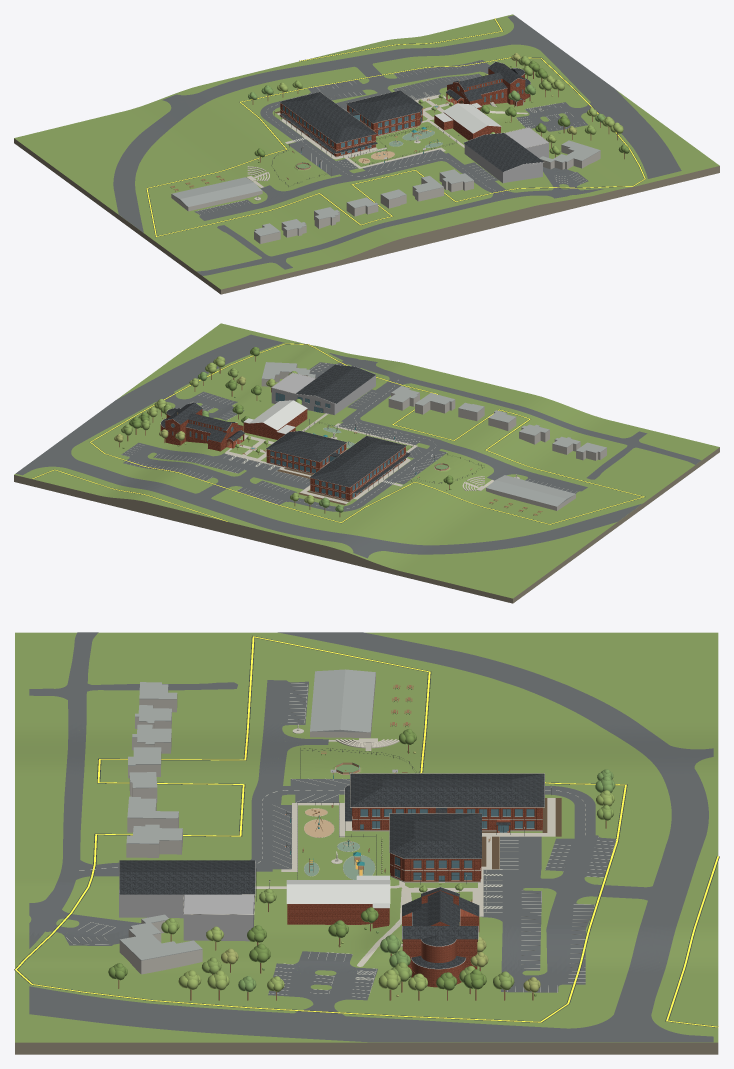
The model's file is OLR-New-Campus.glb.
3 renders of one model, top to bottom at view 1: azimuth 30°, elevation 25°; view 2: azimuth 150°, elevation 25°; view 3: azimuth 270°, elevation 25°, orthographic. The views are drawn at different scales.
Visible parts, largest first — view 1: Landform • upper campus and west slope, 07 • Paths parking and landscape structure / Warm gray aspha, 01 • Site and topography / Terrain cut edge, 02 • New school buildings / Charcoal shingle roof, 06 • Simple retained building shapes / Secondary building ro, 06 • Simple retained building shapes / Secondary buildings •, 07 • Paths parking and landscape structure / Campus lawn, Campus boundary • outline, Campus boundary • amber, 05 • Gym and new theater / Gym and theater • plain gray, 05 • Gym and new theater / Charcoal shingle roof, 02 • New school buildings / Warm red brick • running bond (+11 smaller); view 2: Landform • upper campus and west slope, 07 • Paths parking and landscape structure / Warm gray aspha, 01 • Site and topography / Terrain cut edge, 02 • New school buildings / Charcoal shingle roof, 06 • Simple retained building shapes / Secondary building ro, 06 • Simple retained building shapes / Secondary buildings •, Campus boundary • outline, 07 • Paths parking and landscape structure / Campus lawn, Campus boundary • amber, 05 • Gym and new theater / Charcoal shingle roof, 05 • Gym and new theater / Gym and theater • plain gray, 02 • New school buildings / Warm red brick • running bond (+11 smaller); view 3: Landform • upper campus and west slope, 07 • Paths parking and landscape structure / Warm gray aspha, 02 • New school buildings / Charcoal shingle roof, 06 • Simple retained building shapes / Secondary building ro, 01 • Site and topography / Terrain cut edge, 07 • Paths parking and landscape structure / Campus lawn, 05 • Gym and new theater / Charcoal shingle roof, 06 • Simple retained building shapes / Secondary buildings •, 05 • Gym and new theater / Gym and theater • plain gray, Campus boundary • outline, Campus boundary • amber, 03 • Church | photo referenced exterior / Charcoal shingle r (+15 smaller).
Part boxes in pixels (x1,y1,x2,y2): Landform • upper campus and west slope: (14, 14, 719, 289); 07 • Paths parking and landscape structure / Warm gray aspha: (113, 15, 681, 275); 01 • Site and topography / Terrain cut edge: (14, 138, 719, 294); 02 • New school buildings / Charcoal shingle roof: (279, 90, 422, 143); 06 • Simple retained building shapes / Secondary building ro: (171, 140, 600, 236); 06 • Simple retained building shapes / Secondary buildings •: (171, 145, 600, 243); 07 • Paths parking and landscape structure / Campus lawn: (272, 97, 457, 186); Campus boundary • outline: (146, 18, 645, 237); Campus boundary • amber: (146, 18, 645, 236); 05 • Gym and new theater / Gym and theater • plain gray: (464, 127, 548, 183); 05 • Gym and new theater / Charcoal shingle roof: (464, 133, 543, 171); 02 • New school buildings / Warm red brick • running bond: (280, 103, 422, 156); Landform • upper campus and west slope: (14, 323, 719, 598); 07 • Paths parking and landscape structure / Warm gray aspha: (16, 334, 701, 558); 01 • Site and topography / Terrain cut edge: (14, 447, 719, 603); 02 • New school buildings / Charcoal shingle roof: (266, 431, 406, 487); 06 • Simple retained building shapes / Secondary building ro: (261, 362, 606, 506); 06 • Simple retained building shapes / Secondary buildings •: (261, 364, 606, 510); Campus boundary • outline: (32, 343, 645, 524); 07 • Paths parking and landscape structure / Campus lawn: (229, 423, 484, 483); Campus boundary • amber: (32, 343, 644, 524); 05 • Gym and new theater / Charcoal shingle roof: (295, 364, 375, 403); 05 • Gym and new theater / Gym and theater • plain gray: (271, 373, 375, 414); 02 • New school buildings / Warm red brick • running bond: (266, 443, 405, 500); Landform • upper campus and west slope: (15, 632, 718, 1042); 07 • Paths parking and landscape structure / Warm gray aspha: (29, 632, 713, 1042); 02 • New school buildings / Charcoal shingle roof: (350, 773, 544, 858); 06 • Simple retained building shapes / Secondary building ro: (119, 669, 375, 960); 01 • Site and topography / Terrain cut edge: (15, 1042, 718, 1054); 07 • Paths parking and landscape structure / Campus lawn: (298, 751, 472, 901); 05 • Gym and new theater / Charcoal shingle roof: (119, 860, 255, 894); 06 • Simple retained building shapes / Secondary buildings •: (119, 673, 375, 974); 05 • Gym and new theater / Gym and theater • plain gray: (119, 862, 255, 941); Campus boundary • outline: (14, 635, 719, 1027); Campus boundary • amber: (15, 636, 718, 1027); 03 • Church | photo referenced exterior / Charcoal shingle r: (402, 887, 479, 968).
Bounding box in the file's own units: 314 × 21.18 × 226.
Materials: 53 (2 with a texture image).
